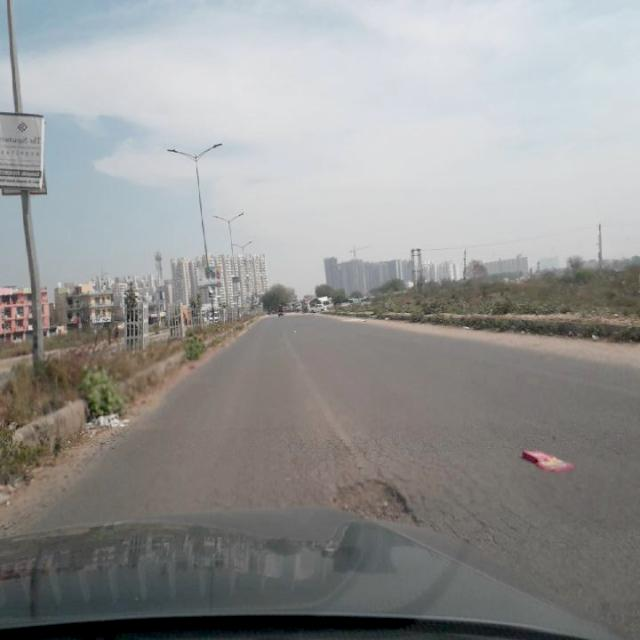D20: (240, 422, 514, 510)
D40: (324, 459, 430, 516)
